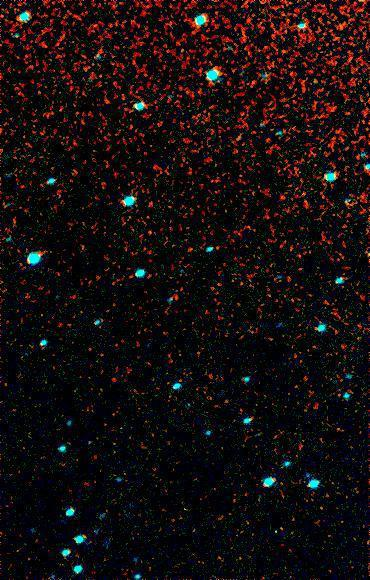star: (236, 68, 266, 98)
